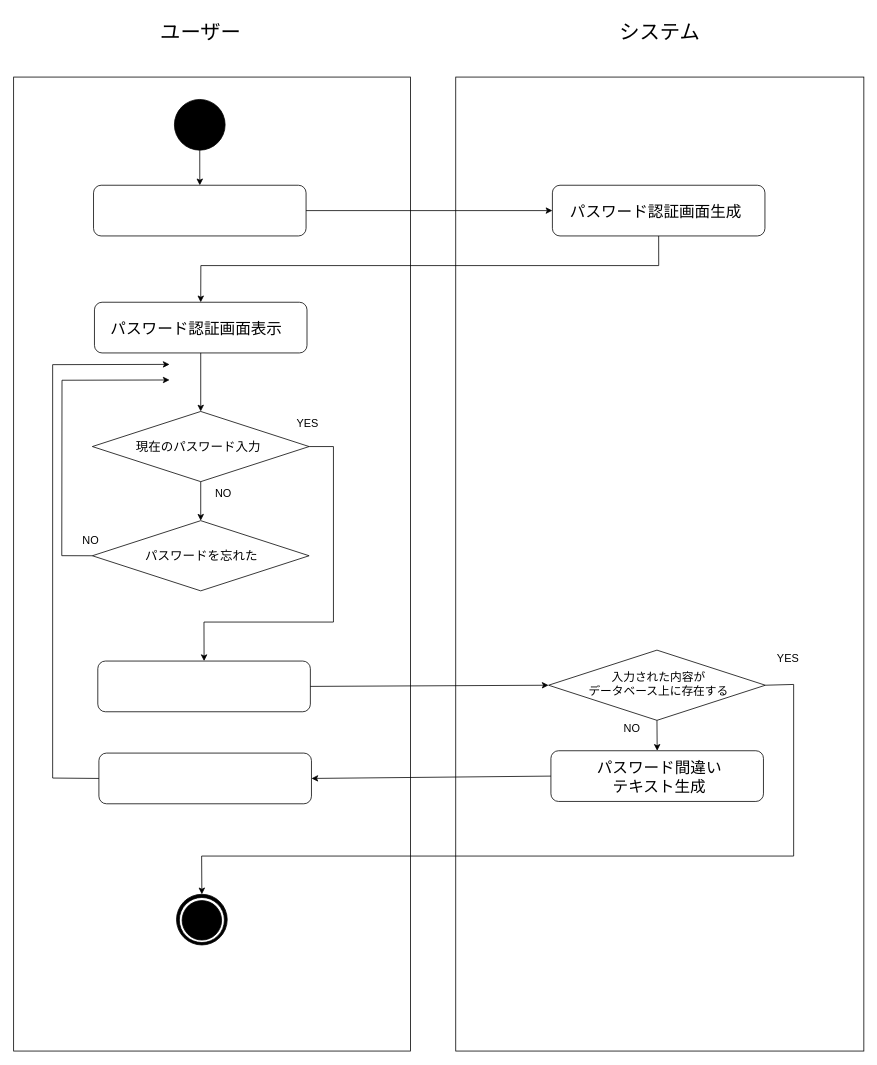
Image size: 877x1065. Some labels were removed from this diagram. The centre of each missing label's shape, as x and y in pixels:
「確認」ボタンを押下: the point at 203,686
パスワード変更選択: the point at 199,210
パスワード間違い テキスト表示: the point at 204,778
